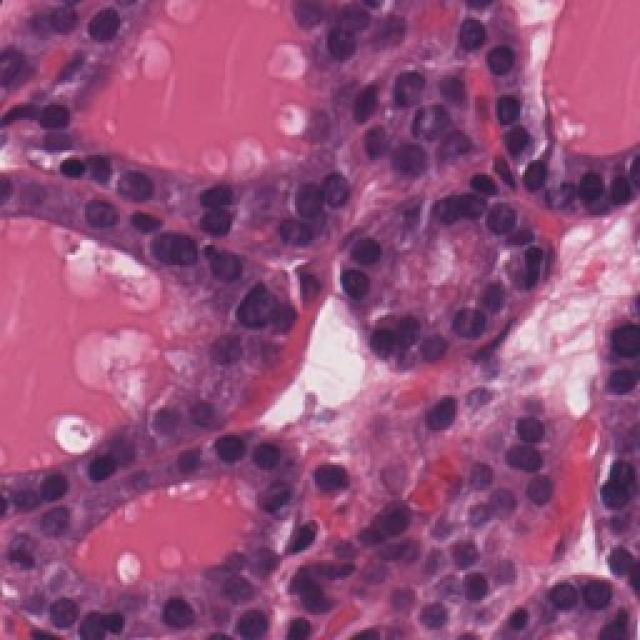abnormal: (141, 204, 228, 296), (287, 447, 389, 524), (64, 0, 163, 74), (140, 560, 228, 640), (253, 191, 342, 269), (422, 287, 519, 357), (54, 176, 137, 252), (206, 278, 302, 343), (565, 288, 640, 370), (26, 485, 101, 559), (430, 0, 510, 65), (476, 178, 538, 258), (413, 373, 466, 463), (374, 132, 447, 195), (380, 62, 444, 123)
